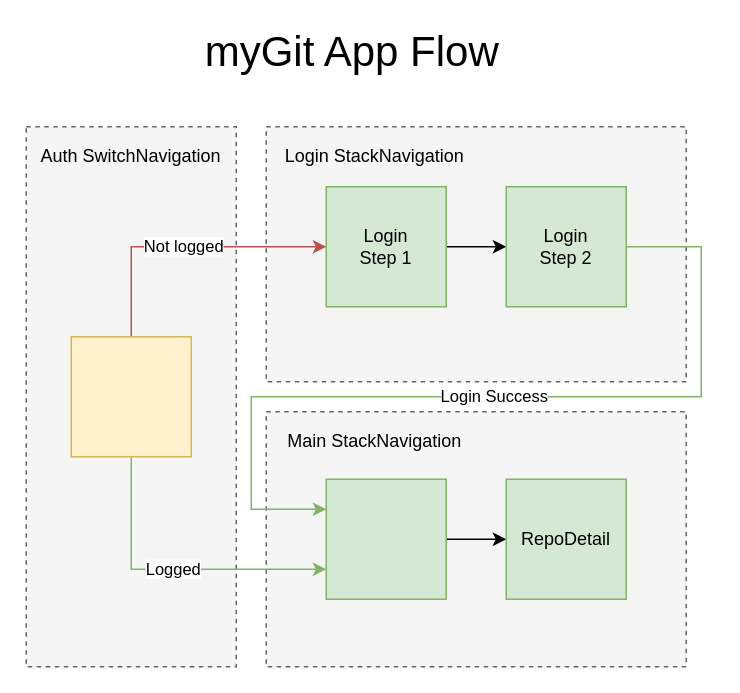
Image size: 740x693. Some labels were removed from this diagram. Here are the shapes that lost their labels. From the top down, the centre of each, then its label:
(130,396): AuthLoading (isLogged)
(385,538): RepoList
